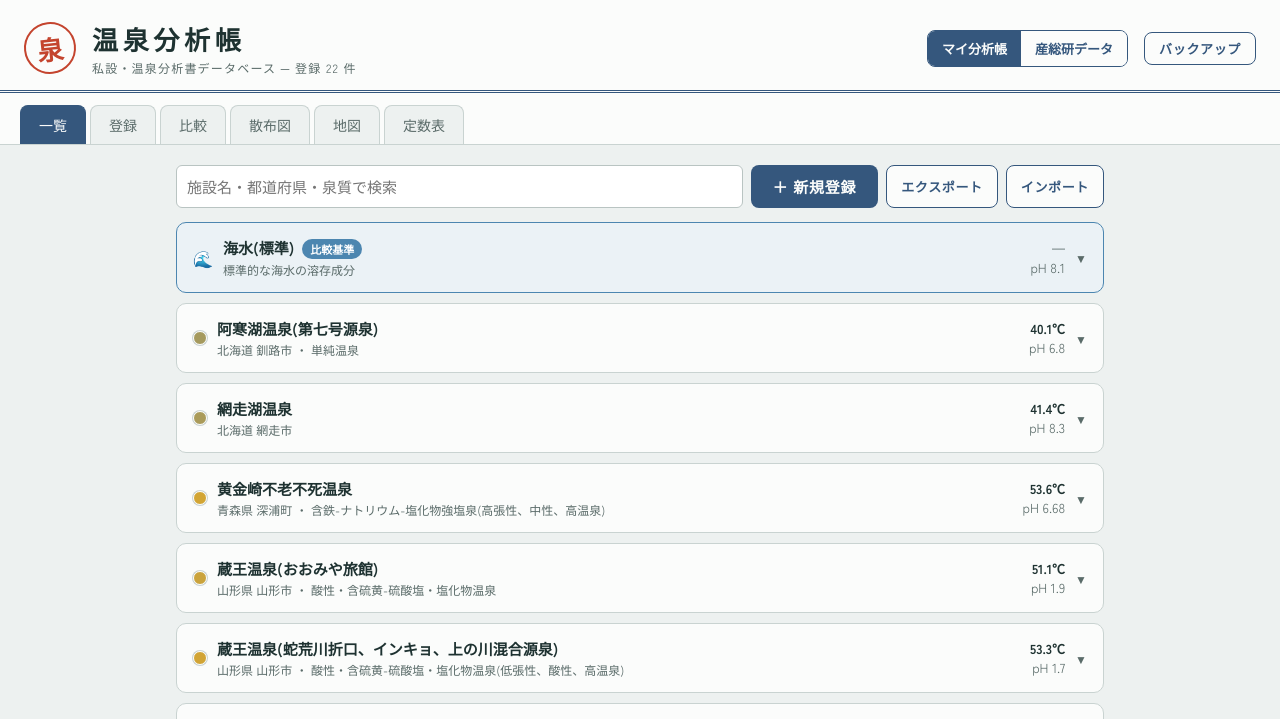
産総研データモード › 都道府県で絞り込める
The image size is (1280, 719).
Step 1. Click the button "産総研データ" → (1074, 48), box [1021, 30, 1127, 66]
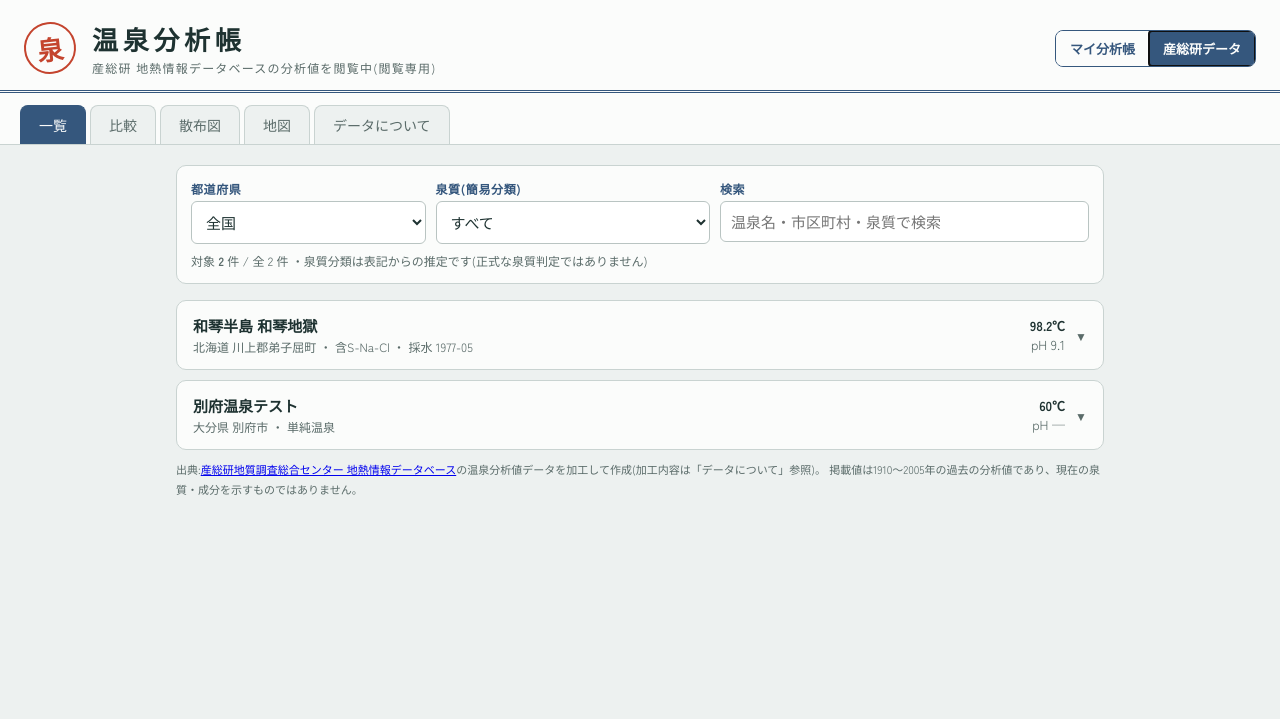
Now the text "和琴半島 和琴地獄" is shown, box [193, 315, 317, 336]
Step 2. Select "大分県" in the dropdown labelled "都道府県" → (308, 222), box [191, 201, 426, 244]
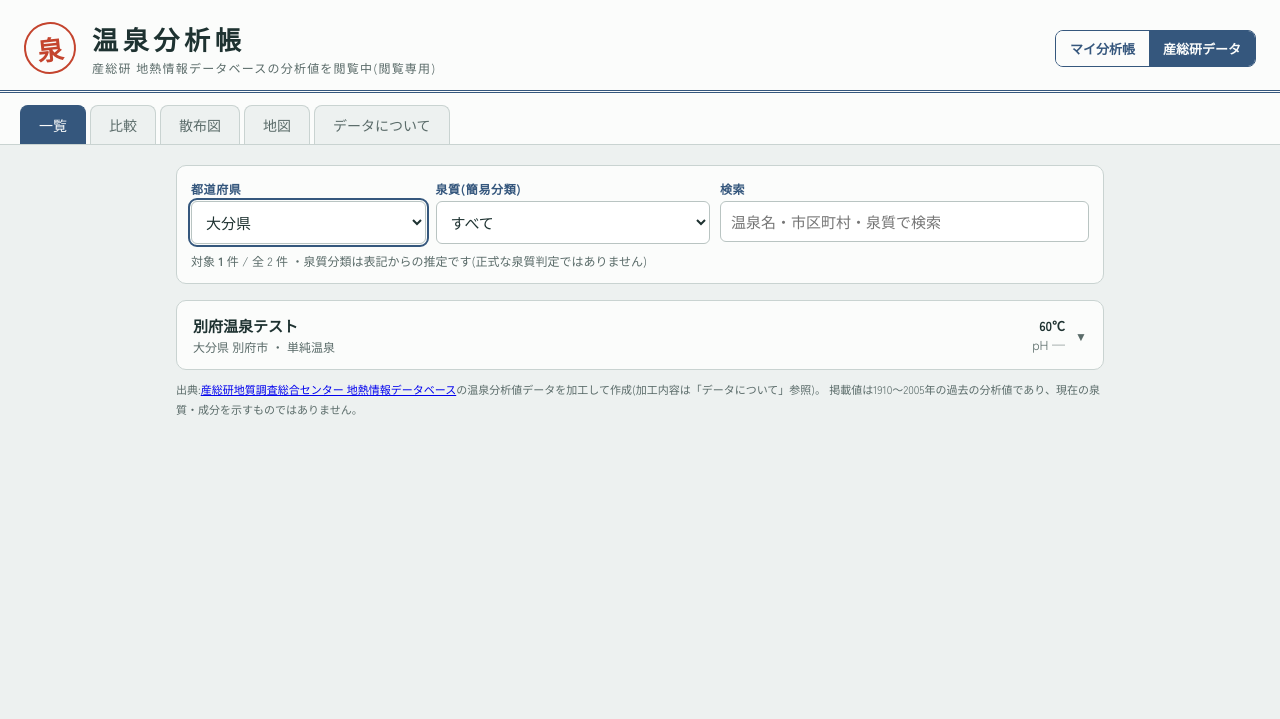
Now the text "別府温泉テスト" is shown, box [193, 315, 298, 336]
Now the text "和琴半島 和琴地獄" is gone
